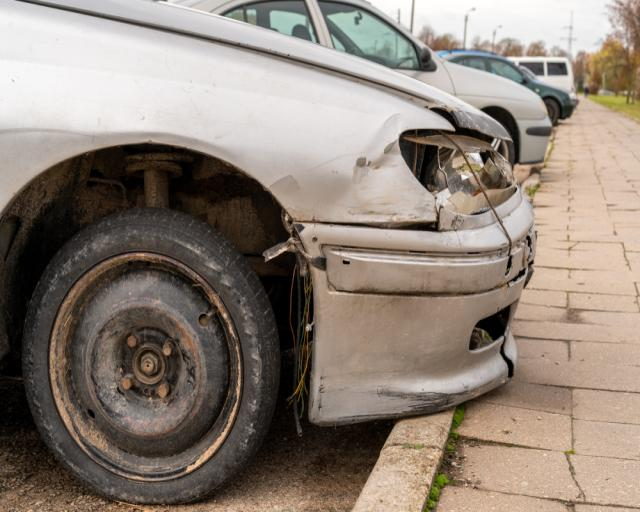crack: (499, 335, 515, 378)
dent: (294, 115, 401, 219)
lamp broken: (398, 132, 518, 214)
scratch: (315, 373, 488, 423)
